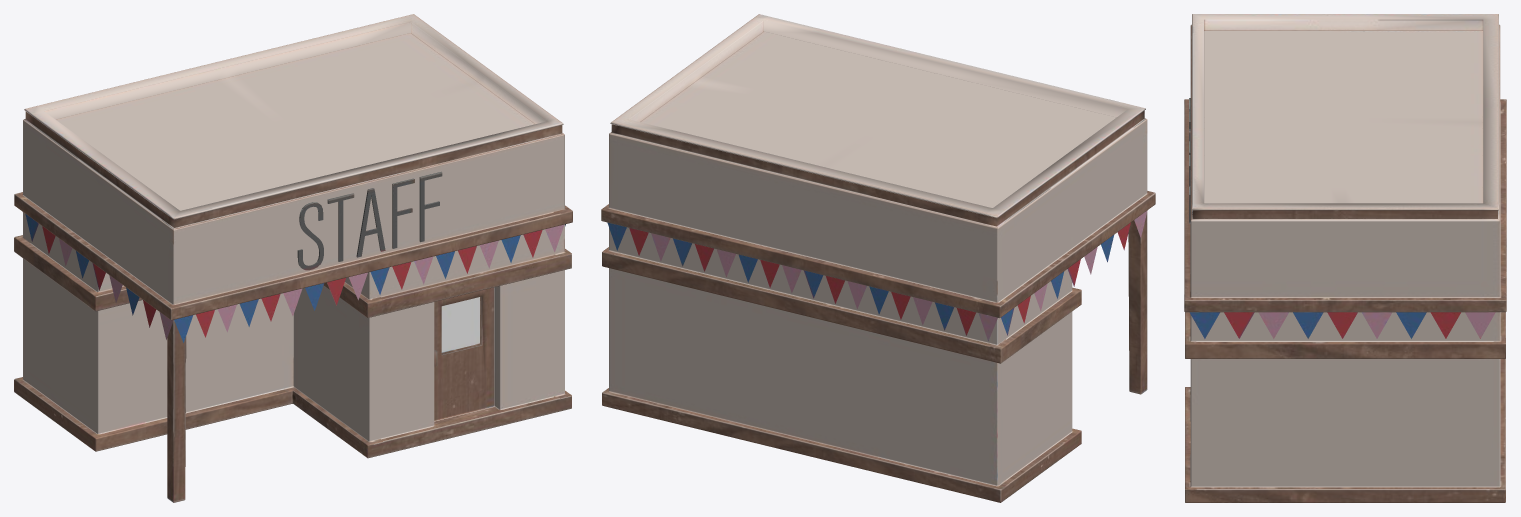
File: BUILDING_Staff_1.1.fbx
3 renders of one model, left to right at view 1: azimuth 30°, elevation 25°; view 2: azimuth 150°, elevation 25°; view 3: azimuth 270°, elevation 25°, orthographic. The views are drawn at different scales.
Visible parts, largest first — view 1: BUILDING_Staff_1.1_Baked; view 2: BUILDING_Staff_1.1_Baked; view 3: BUILDING_Staff_1.1_Baked.
Part boxes in pixels (x1,y1,x2,y2): BUILDING_Staff_1.1_Baked: (14, 14, 572, 502); BUILDING_Staff_1.1_Baked: (601, 14, 1155, 502); BUILDING_Staff_1.1_Baked: (1184, 14, 1506, 502).
Bounding box in the file's own units: 123 × 83.24 × 83.27.
Materials: 1 (1 with a texture image).
